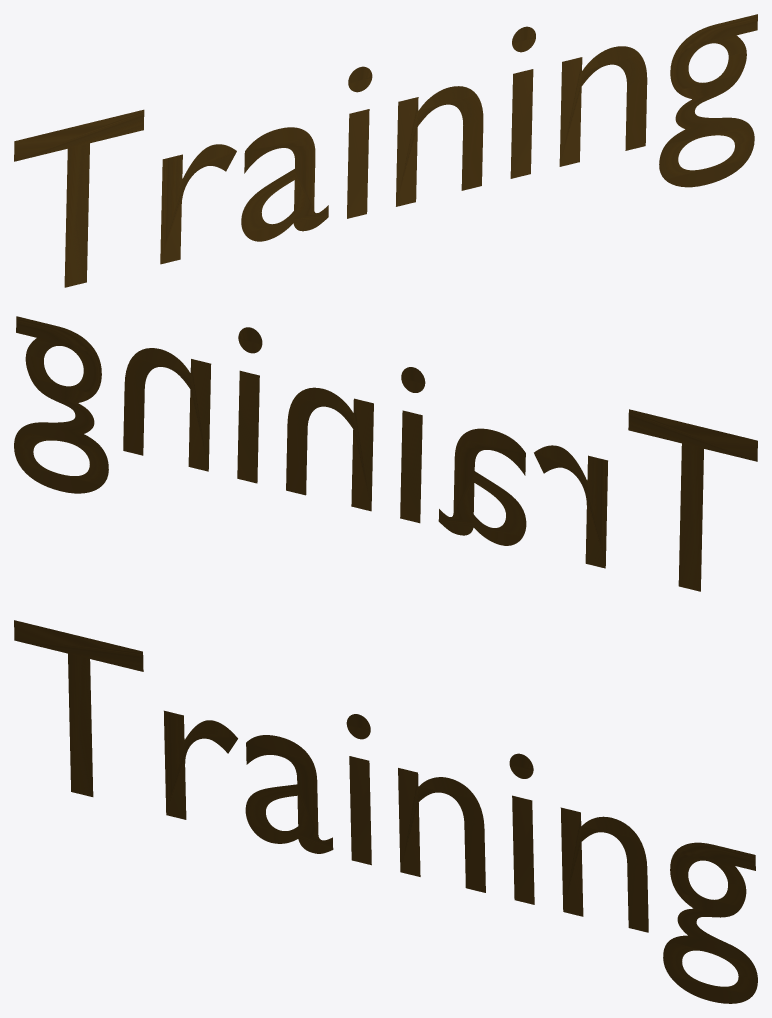
File: training.gltf
3 views of the same model, one above another, from view 1: azimuth 30°, elevation 25°; view 2: azimuth 150°, elevation 25°; view 3: azimuth 330°, elevation 25° (orthographic).
Parts seen in each view (by area): view 1: Trainging; view 2: Trainging; view 3: Trainging.
Part boxes in pixels (<box>): Trainging: <box>14,14,757,287</box>; Trainging: <box>14,316,757,591</box>; Trainging: <box>14,620,757,1003</box>.
Size of the model in its own units: 41.55 by 11.58 by 0.4762.
Materials: 1 (1 with a texture image).
